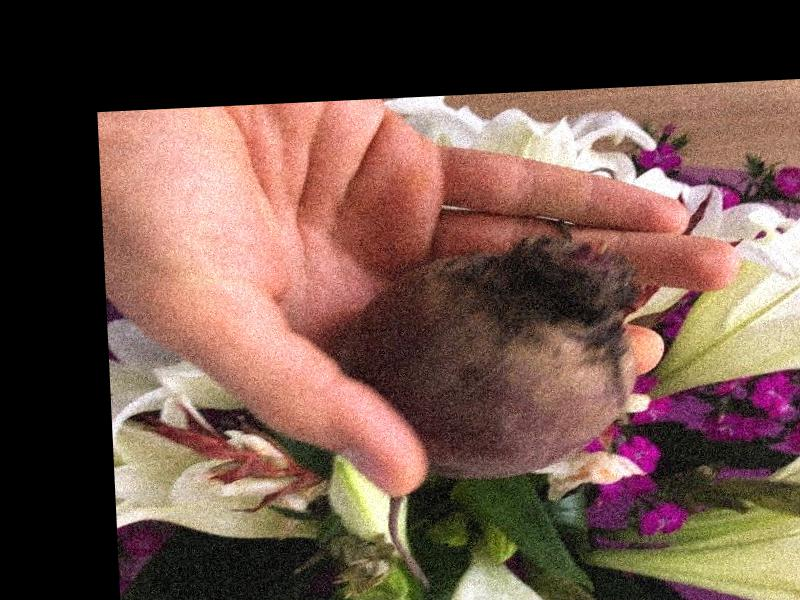Beet: (339, 241, 651, 594)
